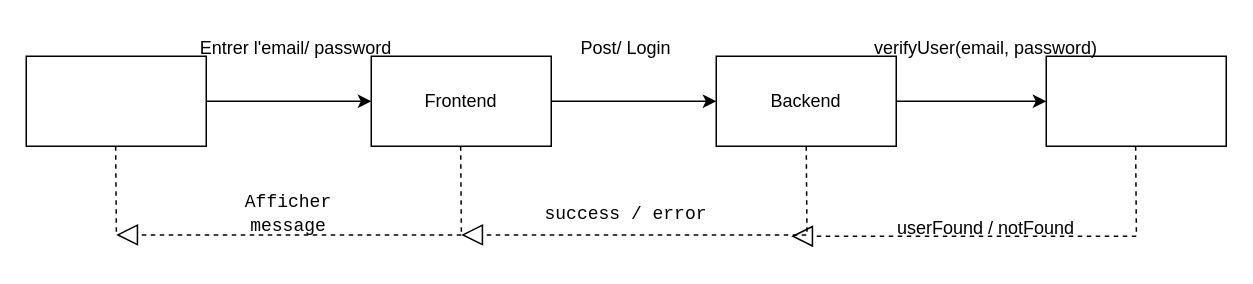
Some shapes in this 1253 by 284 pixel diagram are drawn without their labels. Here are the shapes that lost their labels. From the top down, the centre of each, then its label:
At (115,100): "Client".
At (1135,100): "Database".
